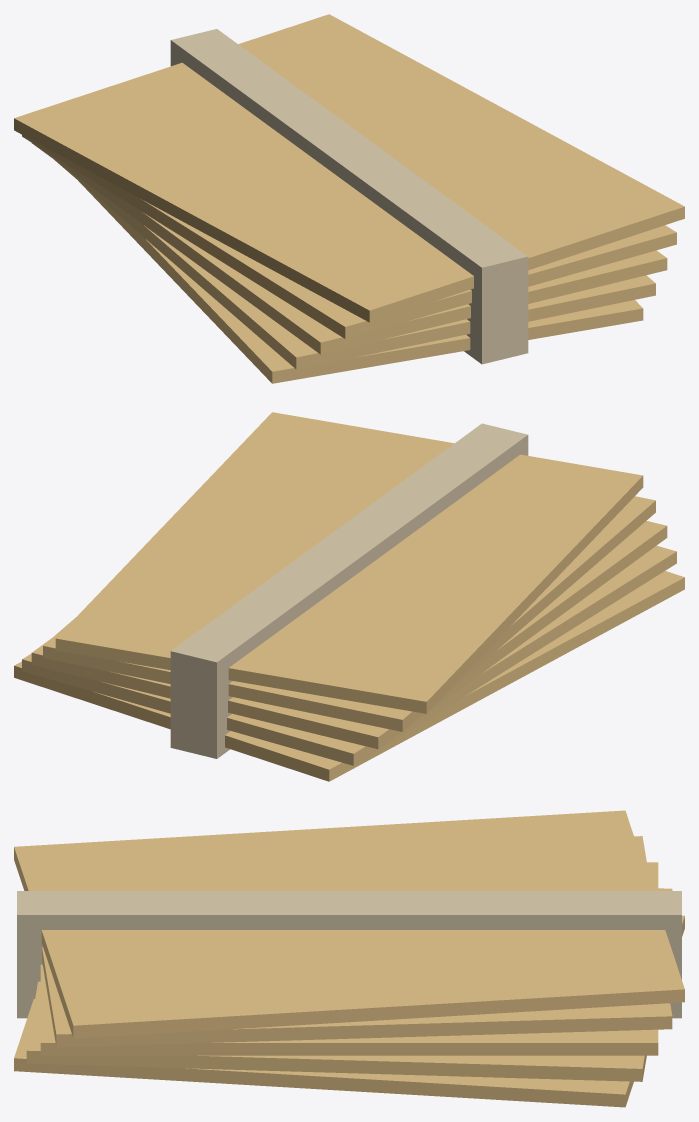
Rendered from prop-horn-pane-stack.fbx.
The picture shows the model from 3 angles, top to bottom: view 1: azimuth 30°, elevation 25°; view 2: azimuth 150°, elevation 25°; view 3: azimuth 270°, elevation 25°; orthographic projection. The views are drawn at different scales.
Visible parts, largest first — view 1: prop-horn-pane-stack; view 2: prop-horn-pane-stack; view 3: prop-horn-pane-stack.
Boxes of the visible parts, <box> form: prop-horn-pane-stack: <box>14,14,684,383</box>; prop-horn-pane-stack: <box>14,412,684,781</box>; prop-horn-pane-stack: <box>14,810,684,1107</box>.
Size of the model in its own units: 10.72 by 2.4 by 14.13.
